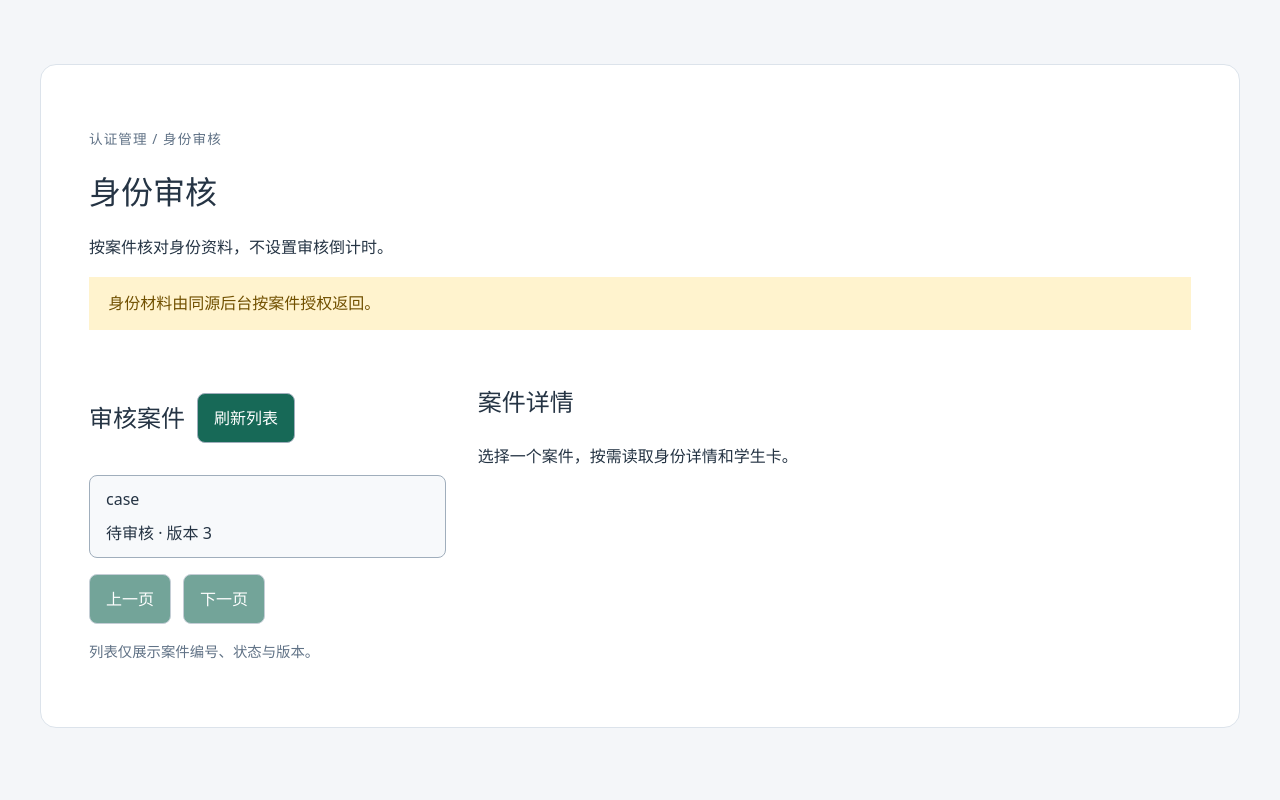
T012 默认真实身份审核进入页面即读取后台队列，按需读取详情
What coordinates should you click on to do the following:
click the button "case 待审核 · 版本 3"
I would click on:
 (123, 499)
Its box is 89,475 -> 446,558.
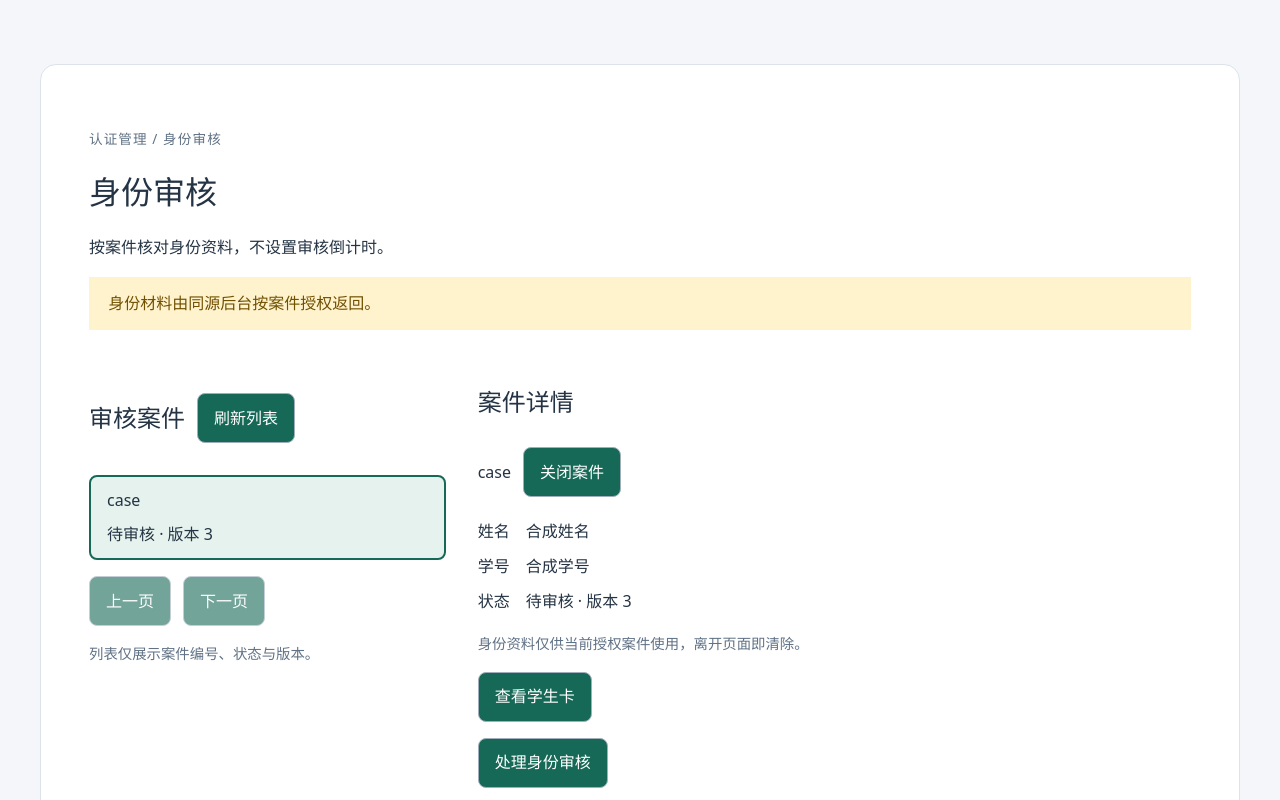
Check: the text "合成姓名" is shown, box 526,520 -> 590,542
